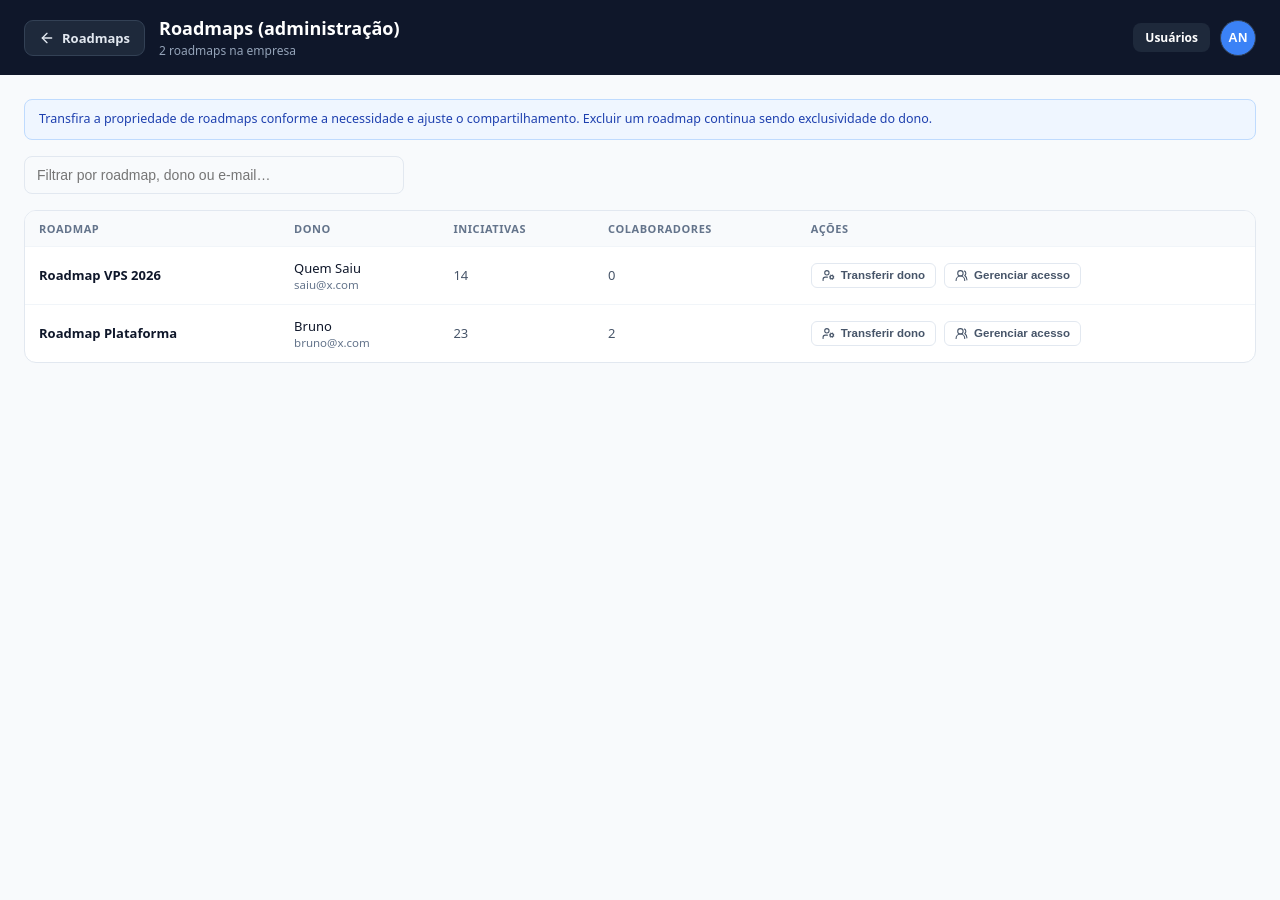
Test: AdminRoadmaps › mostra o erro do servidor quando o novo dono já tem roadmap homônimo
Expected: the text "Roadmap VPS 2026" is shown, top-left (39, 266), bottom-right (161, 284)
Click the button "Transferir dono" in the row of "Roadmap VPS 2026" at [873, 275], box top-left (811, 263), bottom-right (936, 288)
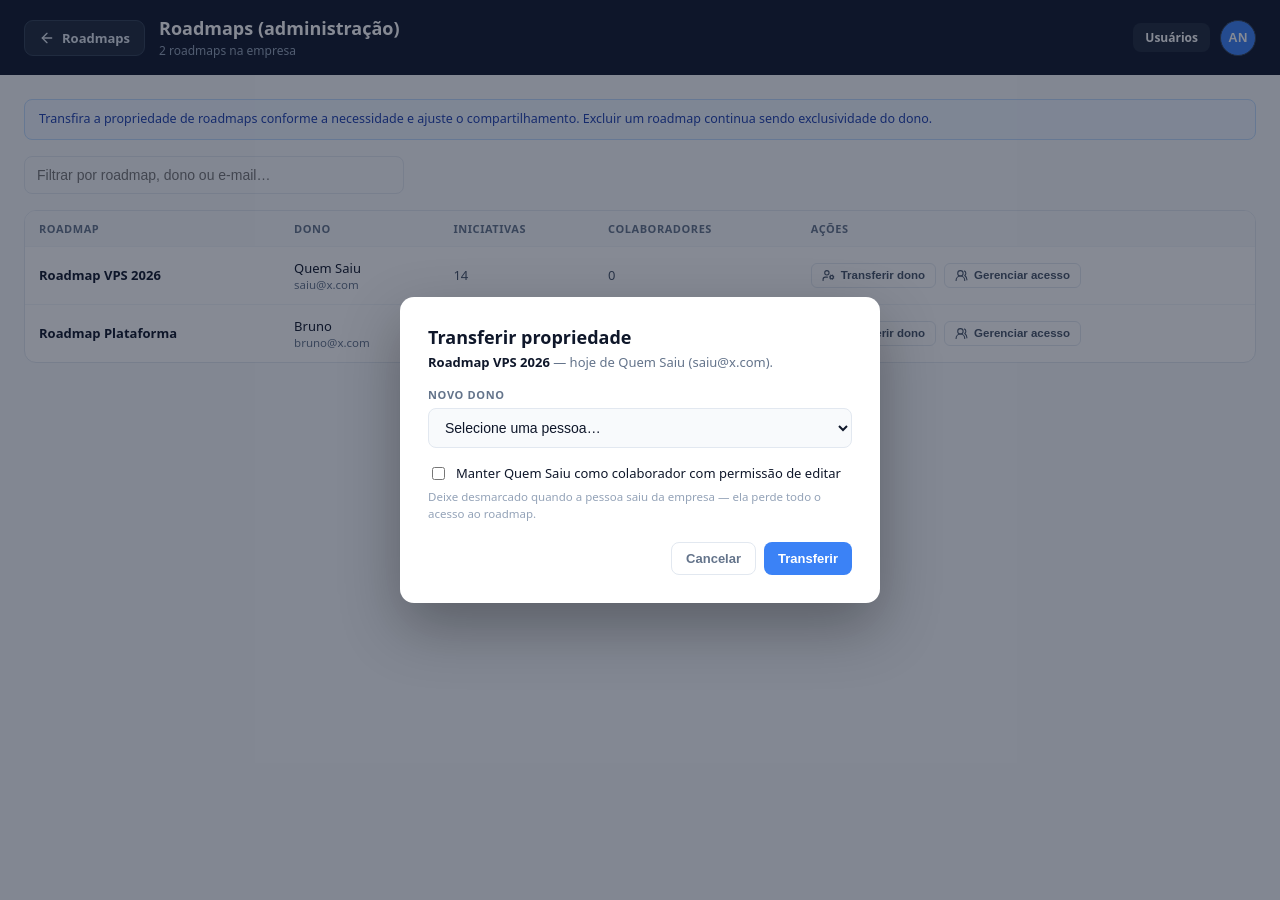
Select "Bruno — bruno@x.com" in the dropdown labelled "Novo dono" at [640, 428], box top-left (428, 408), bottom-right (852, 448)
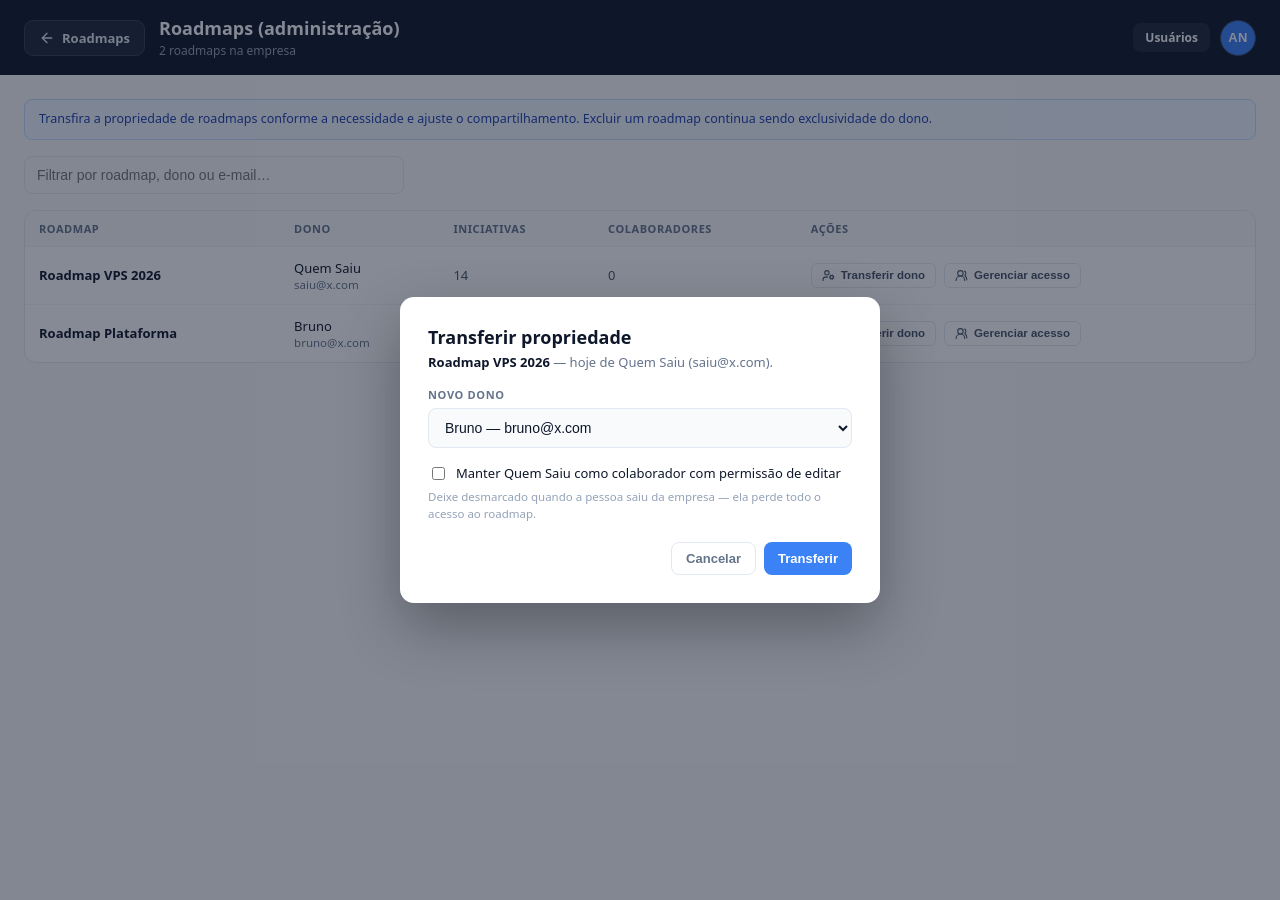
Click the button "Transferir" at [808, 559], box top-left (764, 542), bottom-right (852, 575)
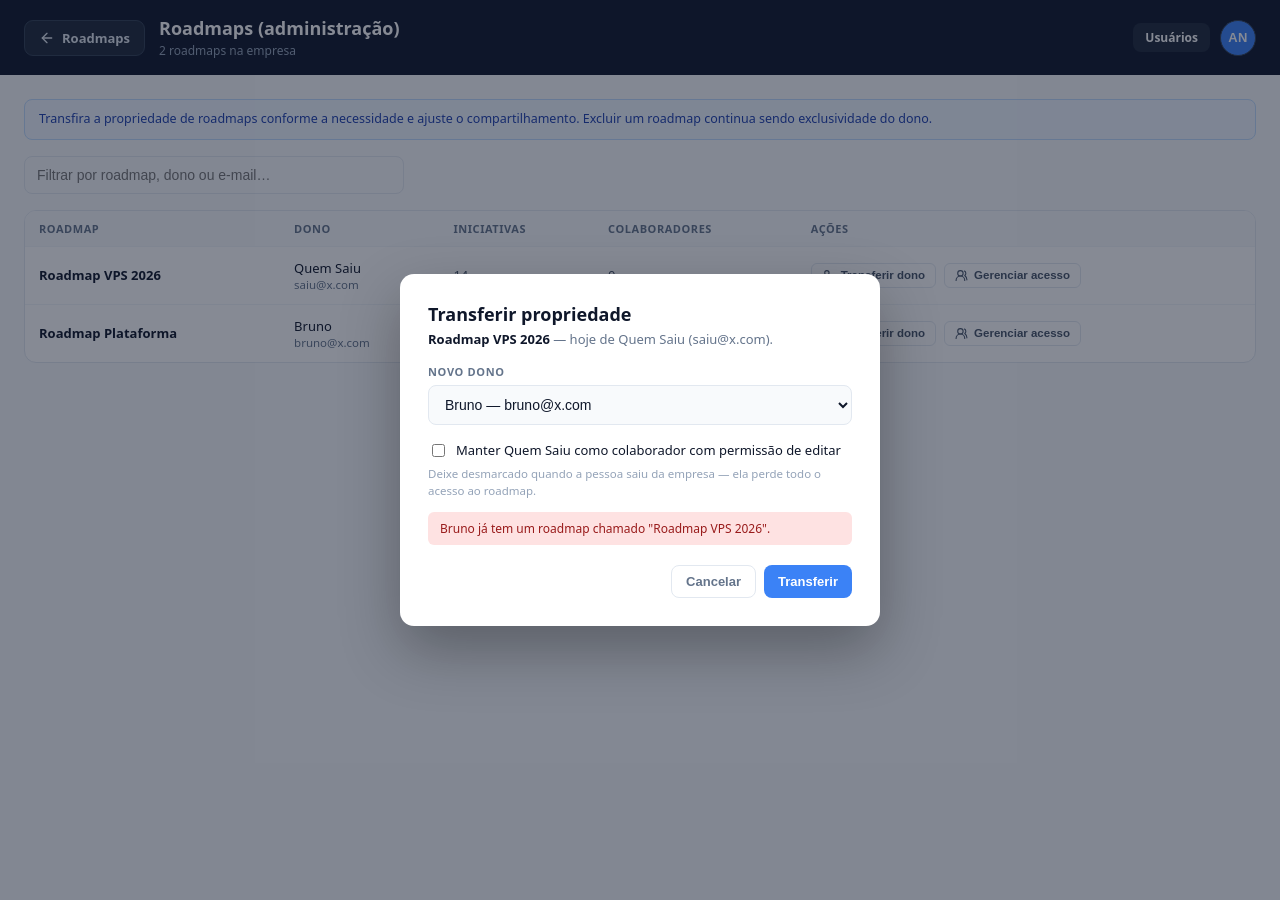
Result: the text "Bruno já tem um roadmap chamado \"Roadmap VPS 2026\"." is shown at top-left (428, 512), bottom-right (852, 545)
